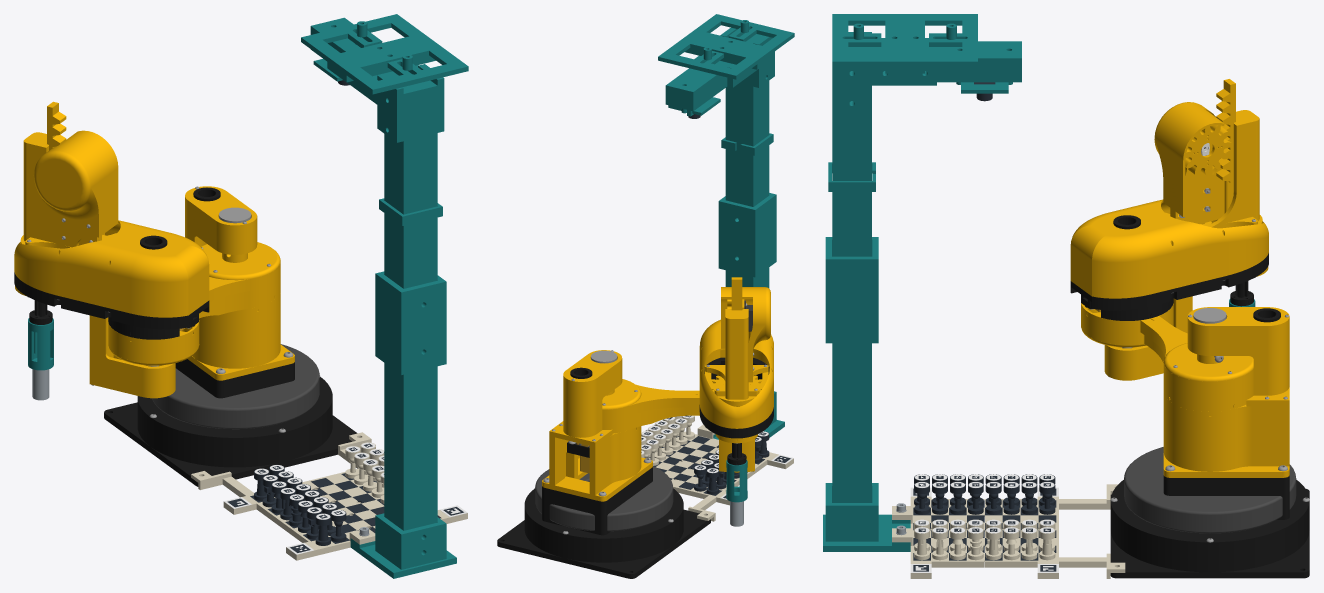
The model's file is eduscara.glb.
3 views of the same model, side by side, from view 1: azimuth 30°, elevation 25°; view 2: azimuth 150°, elevation 25°; view 3: azimuth 270°, elevation 25° (orthographic). The views are drawn at different scales.
Visible parts, largest first — view 1: part_094, part_1265, part_1264, part_021, part_095, part_1274, part_050, part_1266, part_022, part_023, part_002, part_1263 (+17 smaller); view 2: part_021, part_1265, part_023, part_022, part_1274, part_1266, part_094, part_050, part_025, part_002, part_085, part_1267 (+17 smaller); view 3: part_094, part_023, part_021, part_050, part_1274, part_1264, part_022, part_002, part_1265, part_1266, part_025, part_085 (+19 smaller).
Part boxes in pixels (x1,y1,x2,y2): part_094: (14,220,209,317); part_1265: (384,80,437,303); part_1264: (384,350,437,551); part_021: (104,402,357,486); part_095: (34,130,118,246); part_1274: (301,14,468,94); part_050: (152,344,319,429); part_1266: (375,271,446,374); part_022: (137,359,332,443); part_023: (188,292,294,380); part_002: (108,259,280,363); part_1263: (350,513,456,578); part_021: (497,509,710,578); part_1265: (725,34,769,219); part_023: (542,426,652,501); part_022: (524,467,683,543); part_1274: (658,14,794,79); part_1266: (718,193,776,277); part_094: (699,319,773,428); part_050: (535,466,673,531); part_025: (549,363,622,446); part_002: (602,384,699,433); part_085: (705,309,768,399); part_1267: (665,61,731,111); part_094: (1070,199,1268,298); part_023: (1163,392,1289,477); part_021: (1110,489,1309,578); part_050: (1124,447,1296,533); part_1274: (832,14,977,73); part_1264: (832,343,871,502); part_022: (1110,475,1309,548); part_002: (1081,303,1253,411); part_1265: (832,47,871,256); part_1266: (825,237,878,343); part_025: (1187,323,1289,406); part_085: (1165,110,1259,228).
Size of the model in its own units: 258 by 425 by 367.
